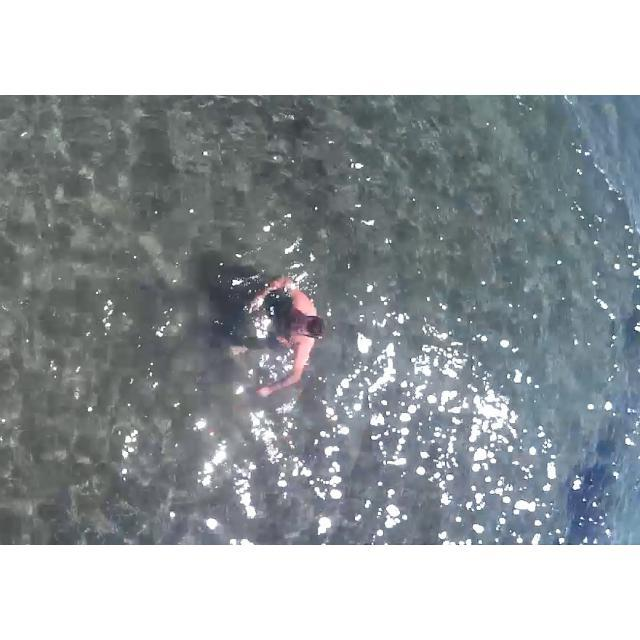human: (223, 258, 327, 409)
